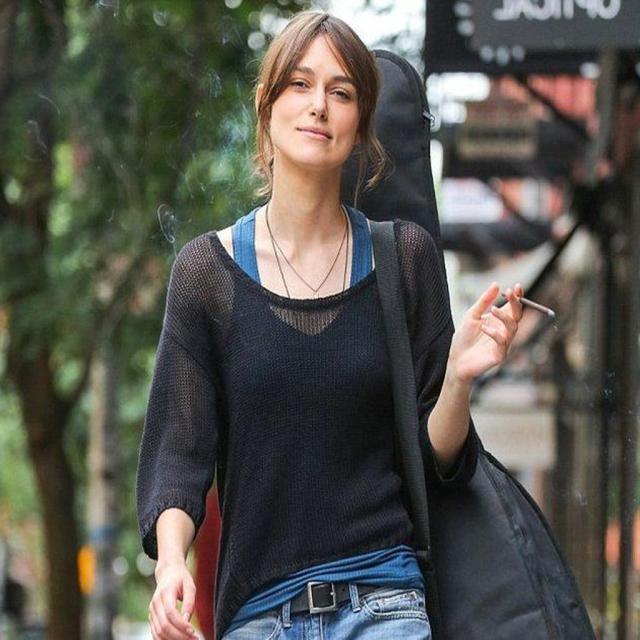smoking: (233, 10, 557, 402)
